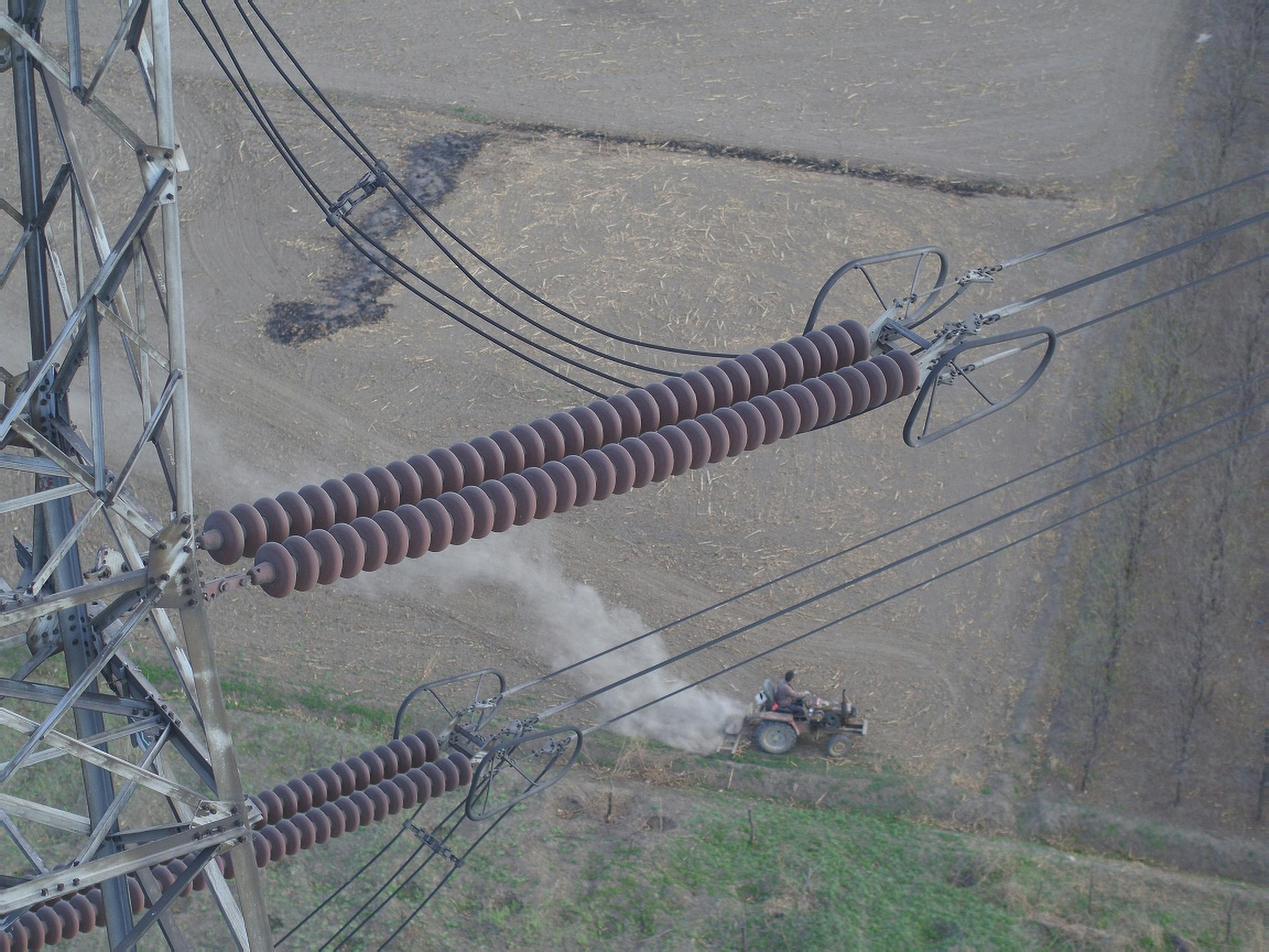insulator: (199, 316, 923, 604), (1, 726, 478, 952)
